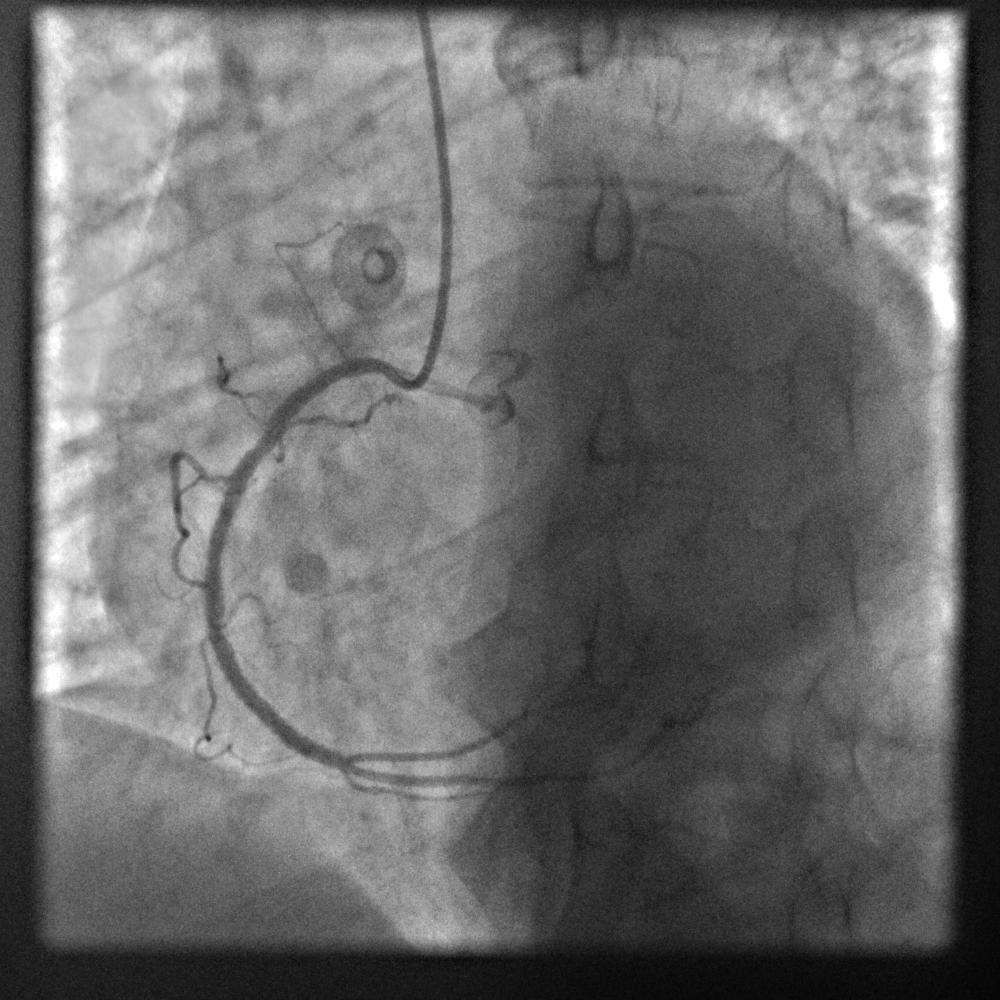Stenosis: (246, 413, 283, 472)
